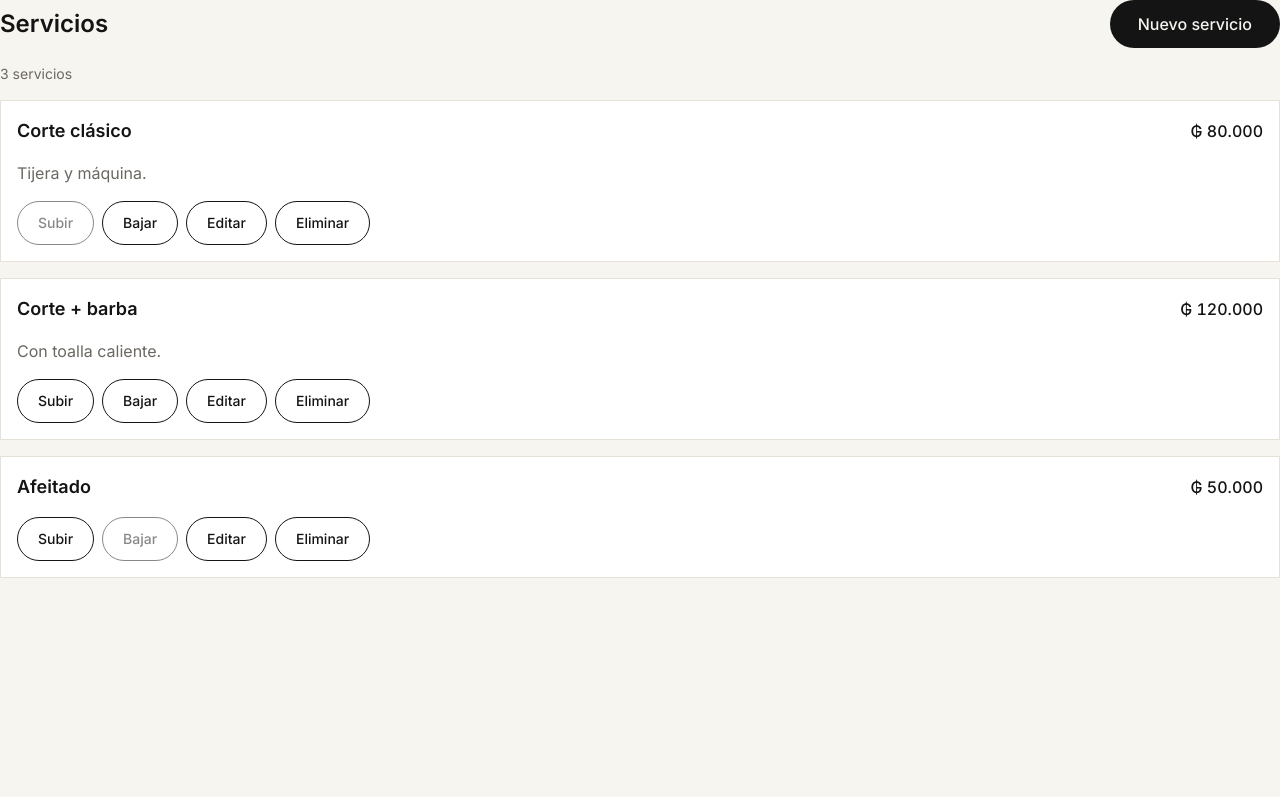
región de estado › dos guardados seguidos anuncian los dos, con la región vacía entre uno y otro
This screenshot has width=1280, height=797.
Click the button with aria-label "Editar Corte clásico": (226, 223) [186,201,267,245]
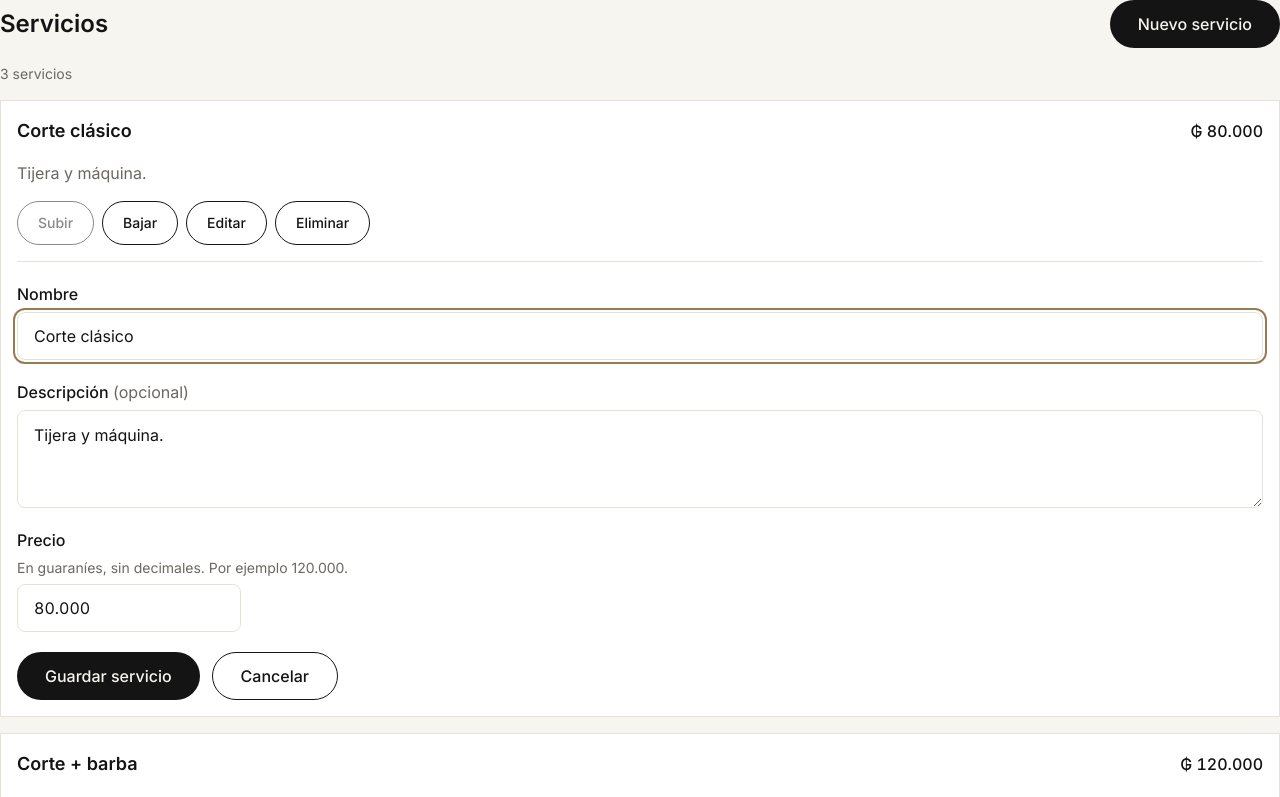
Replace the text in the field labelled "Precio" with "90000": (129, 608) [17,584,241,632]
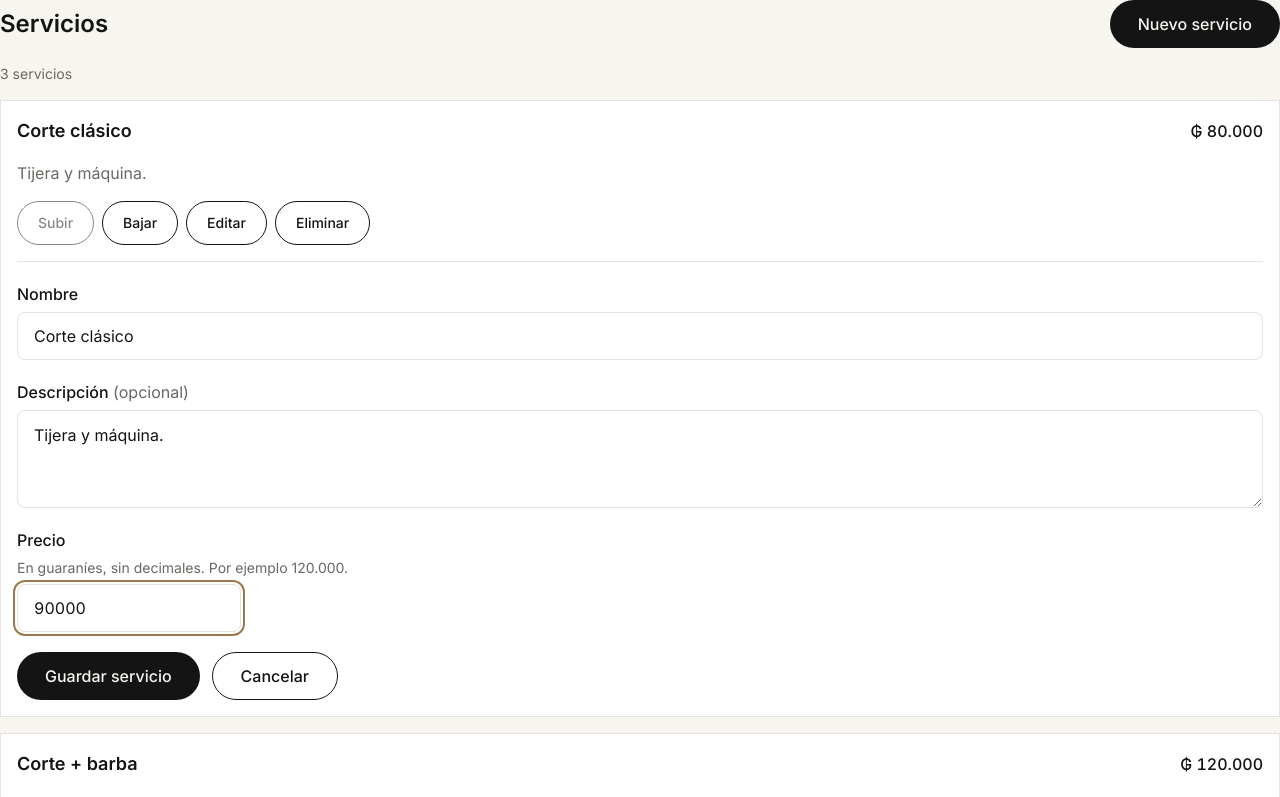
Click the button "Guardar servicio": (108, 676) [17,652,200,700]
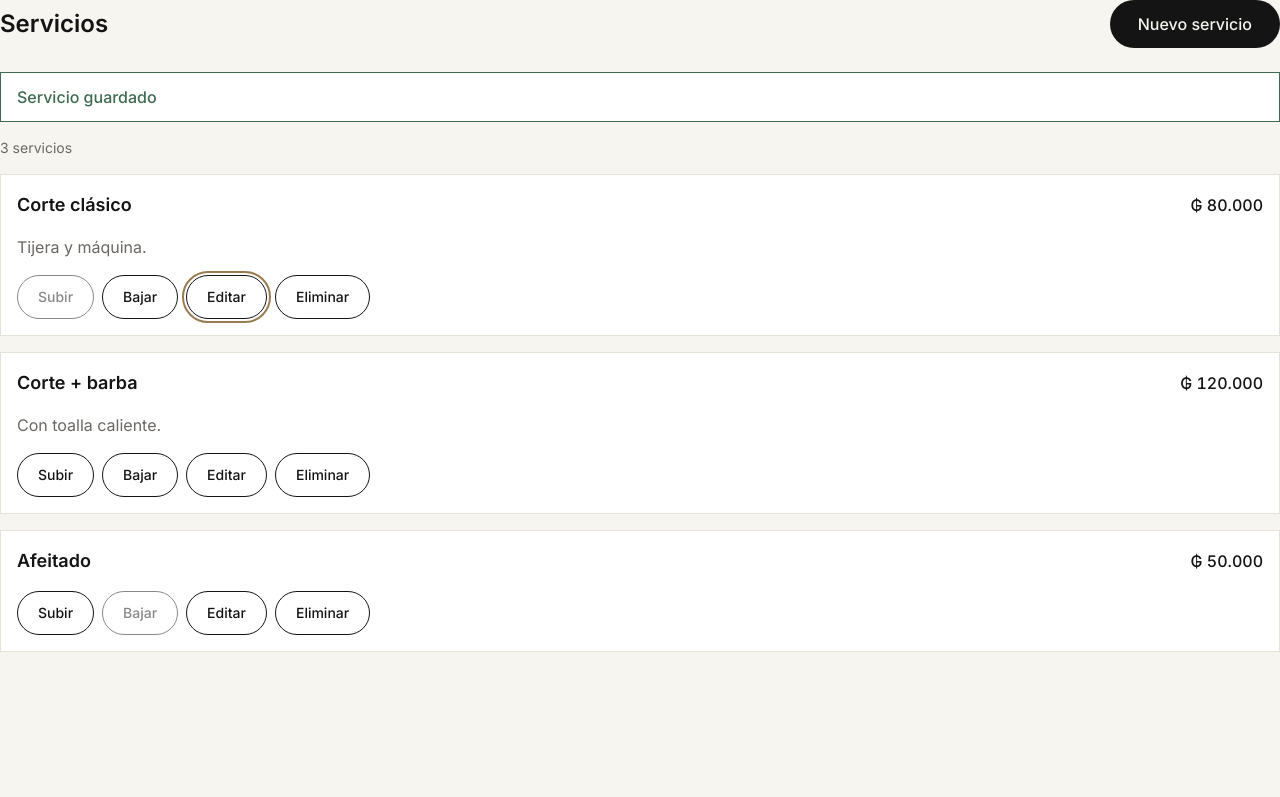
Expected: the label labelled "Nombre" is gone
Expected: the message reads "Servicio guardado", [17,87,157,107]
Click the button with aria-label "Editar Corte clásico": (226, 297) [186,275,267,319]
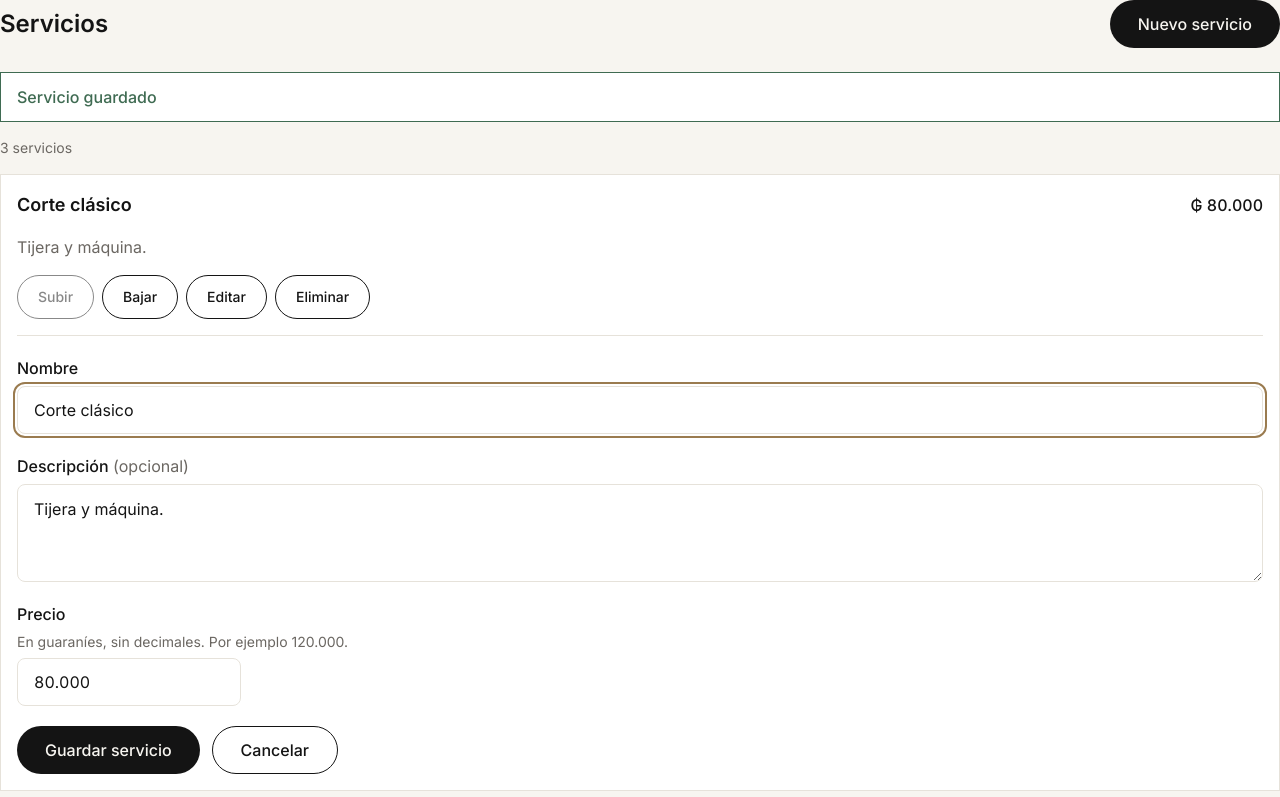
Replace the text in the field labelled "Precio" with "95000": (129, 682) [17,658,241,706]
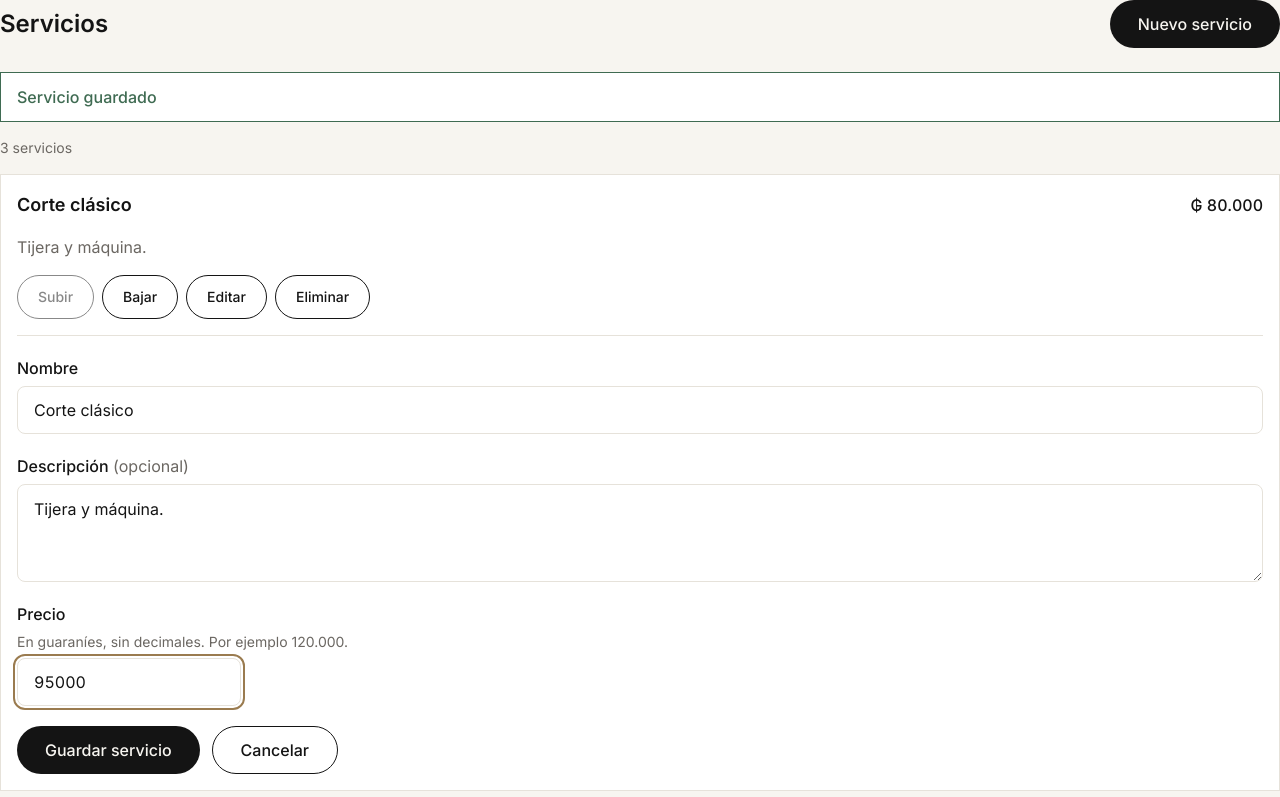
Click the button "Guardar servicio": (108, 750) [17,726,200,774]
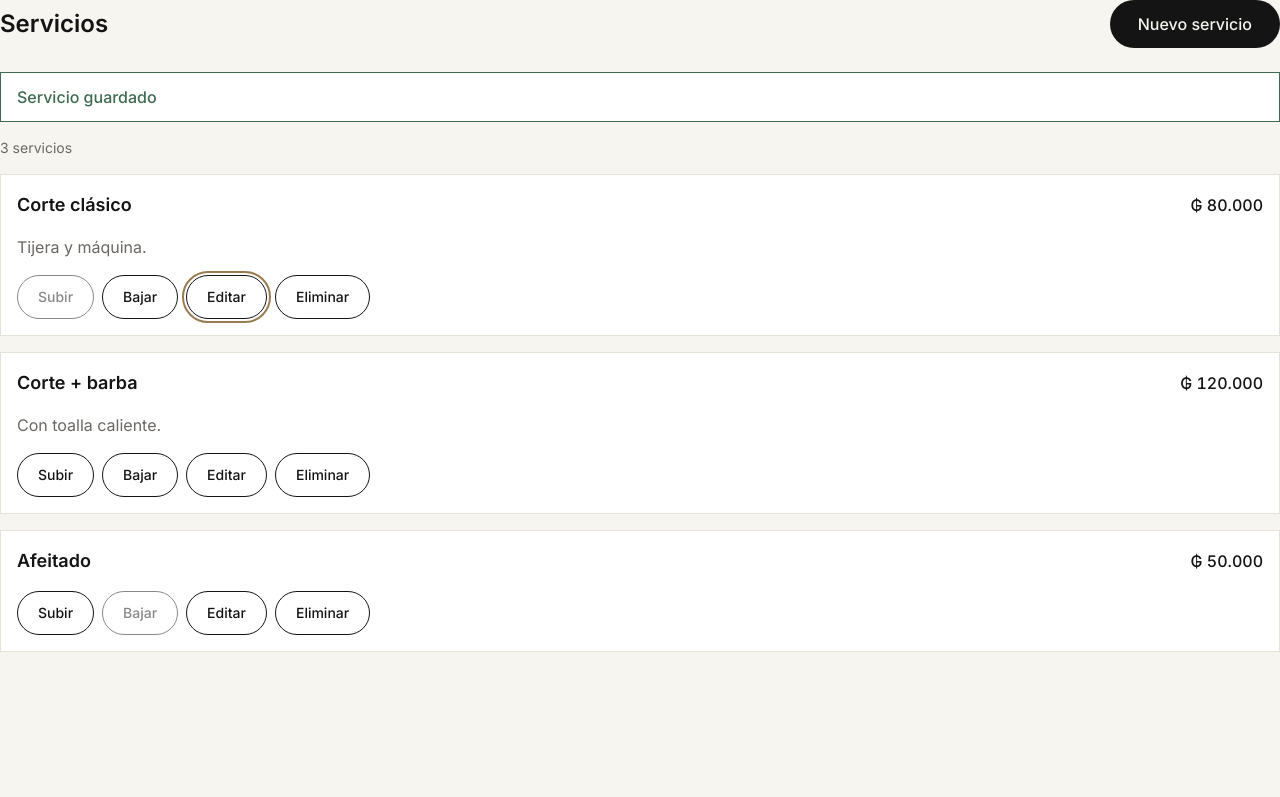
Expected: the message reads "Servicio guardado", [17,87,157,107]
Expected: the label labelled "Nombre" is gone
